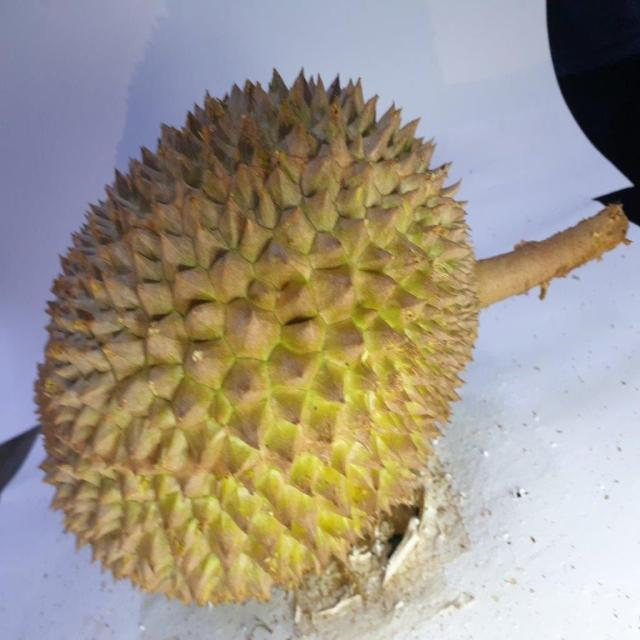mature: (29, 61, 485, 626)
